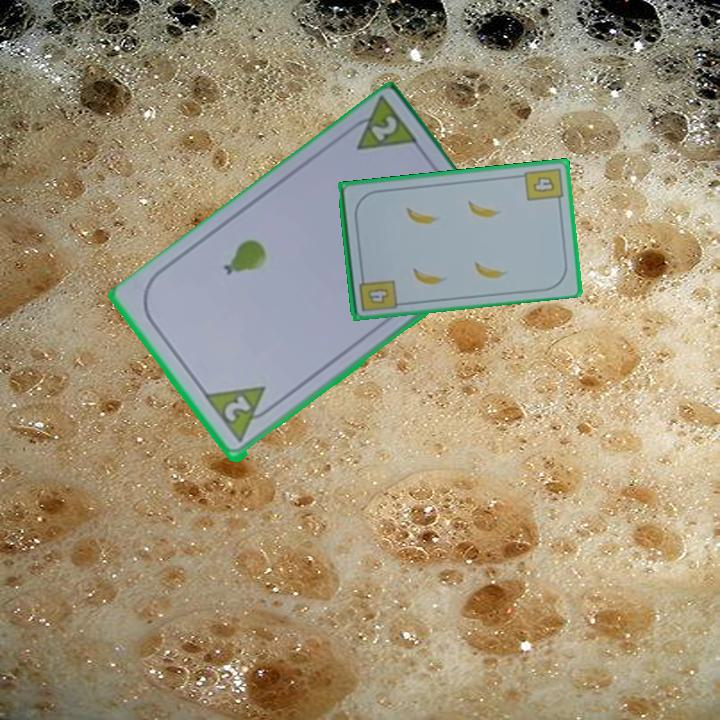2p: (202, 383, 280, 447), (367, 112, 400, 145)
4b: (521, 164, 566, 208), (355, 270, 399, 314)
